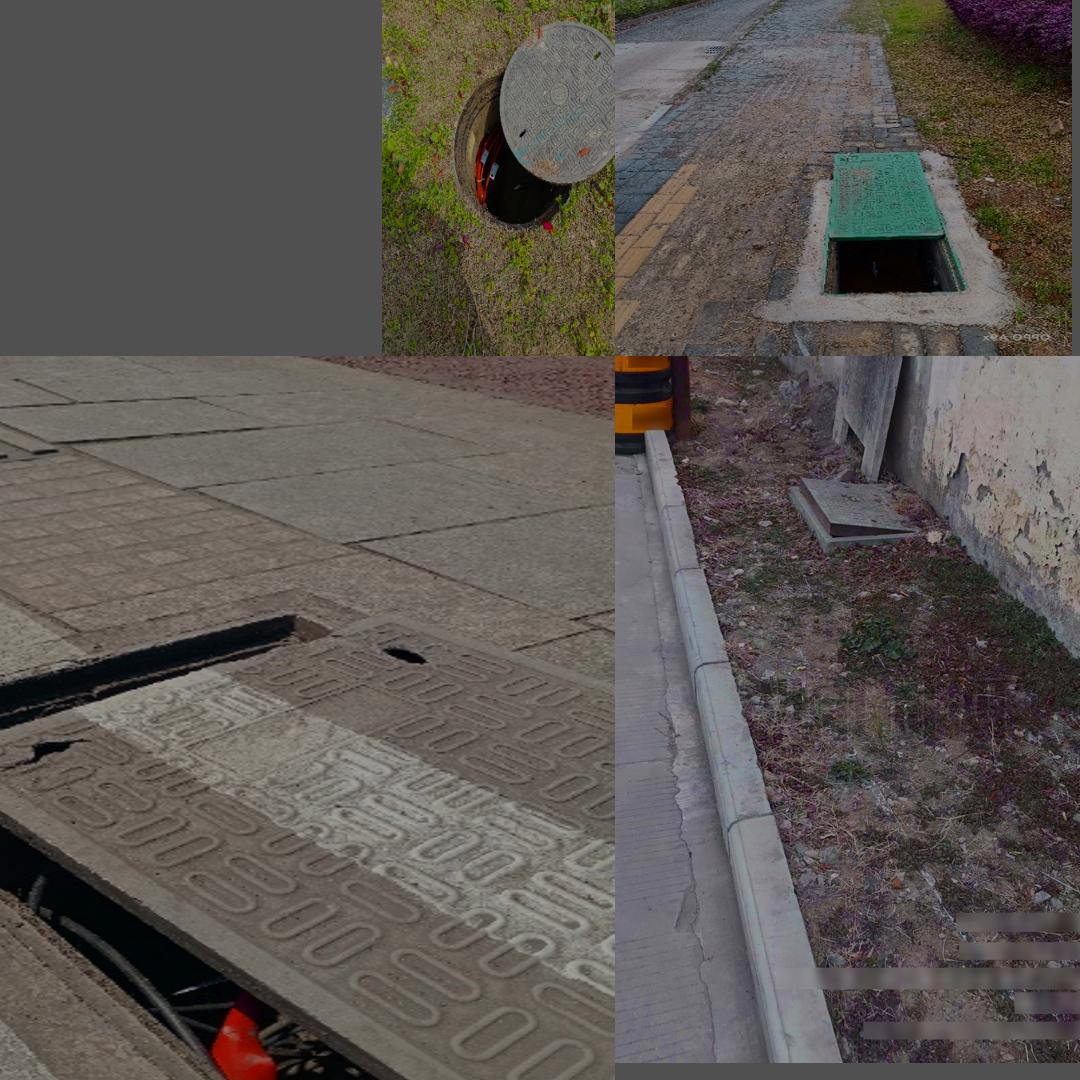uncovered: (0, 605, 606, 1080), (452, 20, 614, 231), (813, 141, 952, 299), (788, 477, 925, 549)
